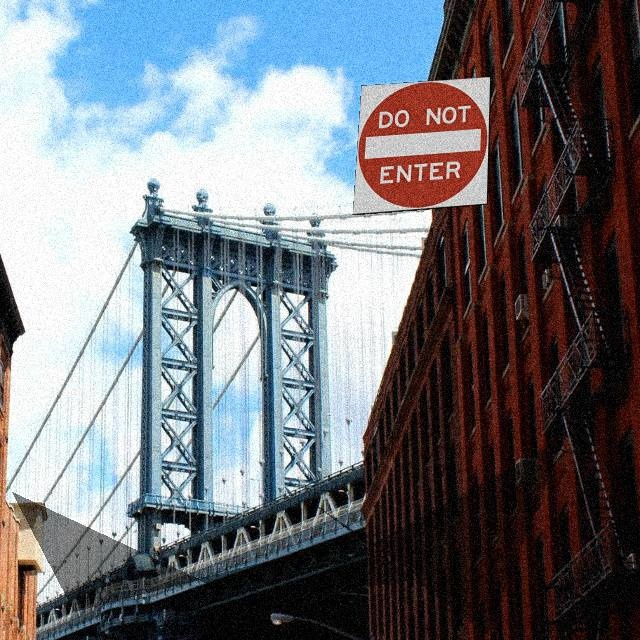DO_NOT_ENTER: (352, 76, 491, 215)
